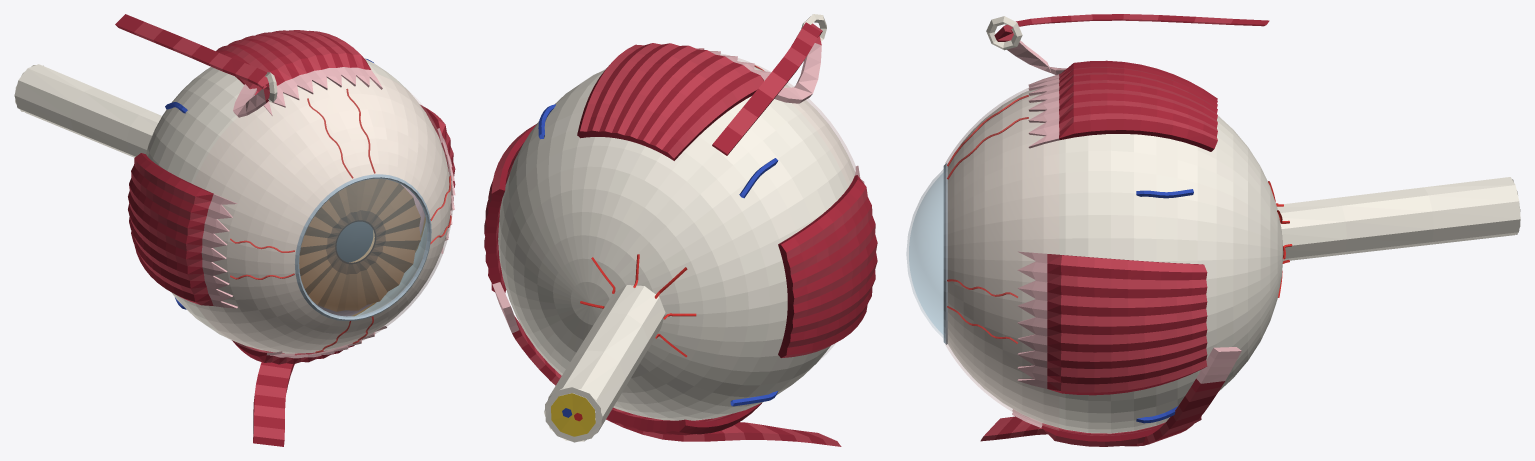
The model's file is eye.glb.
3 renders of one model, left to right at view 1: azimuth 30°, elevation 25°; view 2: azimuth 150°, elevation 25°; view 3: azimuth 270°, elevation 25°, orthographic. The views are drawn at different scales.
Parts seen in each view (by area): view 1: sclera (×2), conjunctiva, muscles, cornea, iris, nerve, aqueous, lens, pupil; view 2: sclera (×2), muscles, nerve, conjunctiva; view 3: sclera (×3), muscles (×2), conjunctiva, nerve, cornea, aqueous.
Boxes of the visible parts, left/top/right/bottom form: sclera (×2): left=146, top=58, right=450, bottom=353; conjunctiva: left=194, top=73, right=452, bottom=354; muscles: left=115, top=14, right=455, bottom=446; cornea: left=299, top=178, right=428, bottom=317; iris: left=299, top=179, right=420, bottom=311; nerve: left=14, top=64, right=161, bottom=157; aqueous: left=315, top=185, right=426, bottom=315; lens: left=337, top=222, right=374, bottom=261; pupil: left=336, top=221, right=373, bottom=262; sclera (×2): left=498, top=61, right=855, bottom=420; muscles: left=484, top=22, right=877, bottom=446; nerve: left=544, top=285, right=665, bottom=442; conjunctiva: left=604, top=54, right=855, bottom=360; sclera (×3): left=943, top=89, right=1292, bottom=433; muscles (×2): left=947, top=14, right=1269, bottom=446; conjunctiva: left=945, top=88, right=1058, bottom=429; nerve: left=1277, top=177, right=1520, bottom=261; cornea: left=906, top=169, right=943, bottom=337; aqueous: left=909, top=173, right=943, bottom=334.
Size of the model in its own units: 0.3222 by 0.3896 by 0.512.
